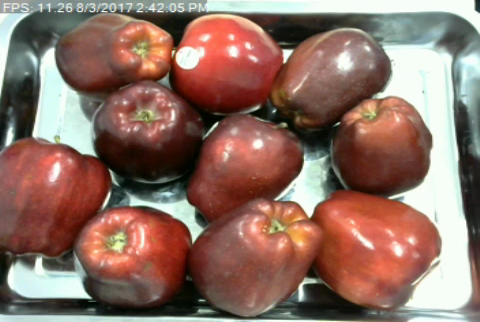Apple: (307, 188, 445, 315), (185, 197, 326, 317), (0, 132, 113, 263), (182, 111, 305, 224), (268, 24, 395, 132), (71, 203, 194, 311), (167, 9, 286, 120), (87, 76, 206, 186), (52, 7, 178, 100), (328, 95, 437, 198)
